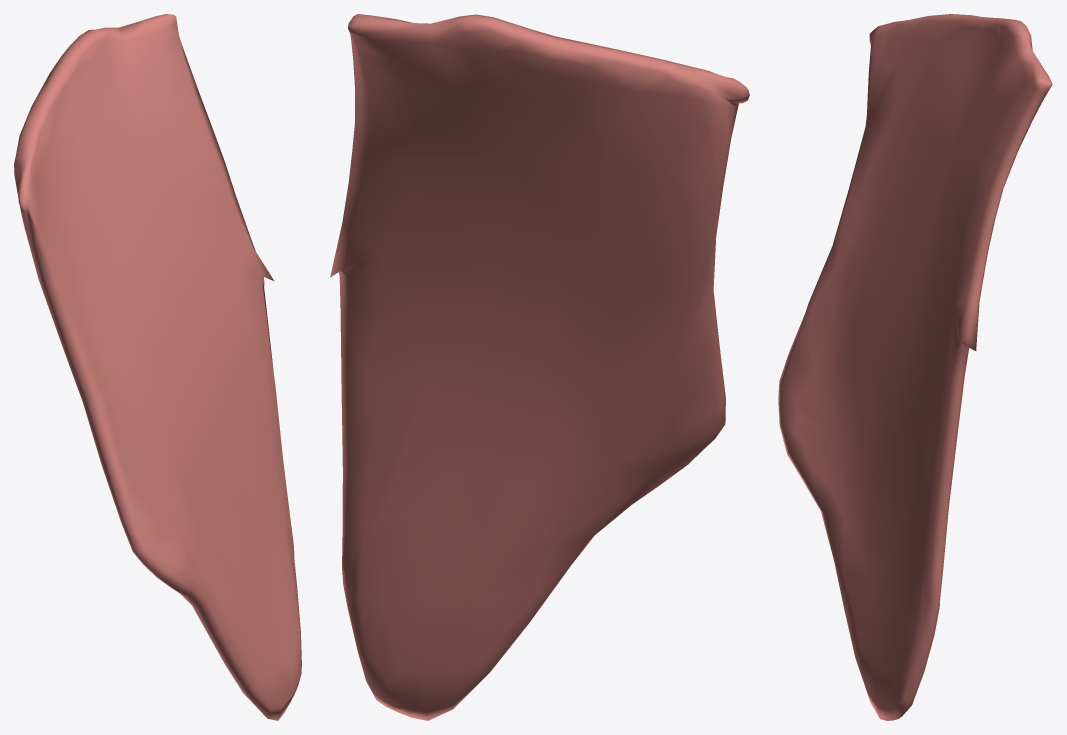
3 renders of one model, left to right at view 1: azimuth 30°, elevation 25°; view 2: azimuth 150°, elevation 25°; view 3: azimuth 270°, elevation 25°, orthographic. The views are drawn at different scales.
Parts seen in each view (by area): view 1: ZA_943bb4ec9af86543; view 2: ZA_943bb4ec9af86543; view 3: ZA_943bb4ec9af86543.
Boxes of the visible parts, bbox=[...] form: ZA_943bb4ec9af86543: bbox=[14, 14, 301, 720]; ZA_943bb4ec9af86543: bbox=[330, 14, 749, 720]; ZA_943bb4ec9af86543: bbox=[778, 14, 1052, 720].
Bounding box in the file's own units: 0.00811 × 0.0169 × 0.00656.
